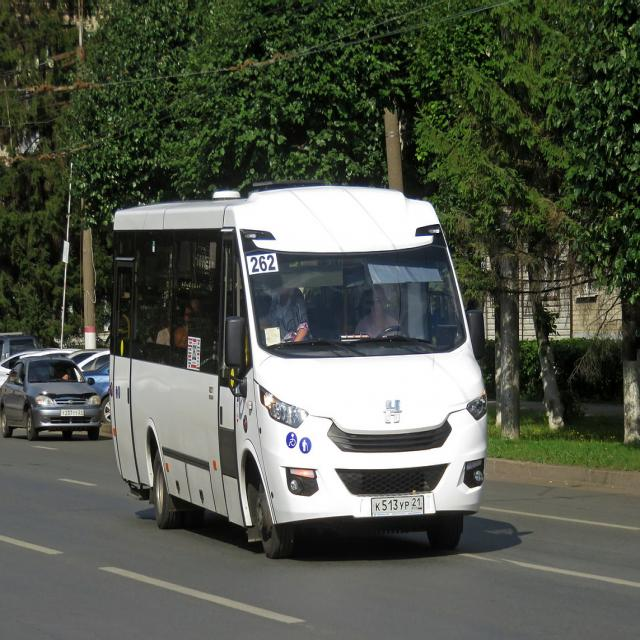number-of-bus: (245, 251, 281, 276)
